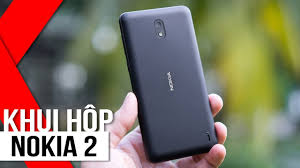nokia: (110, 5, 222, 160)
